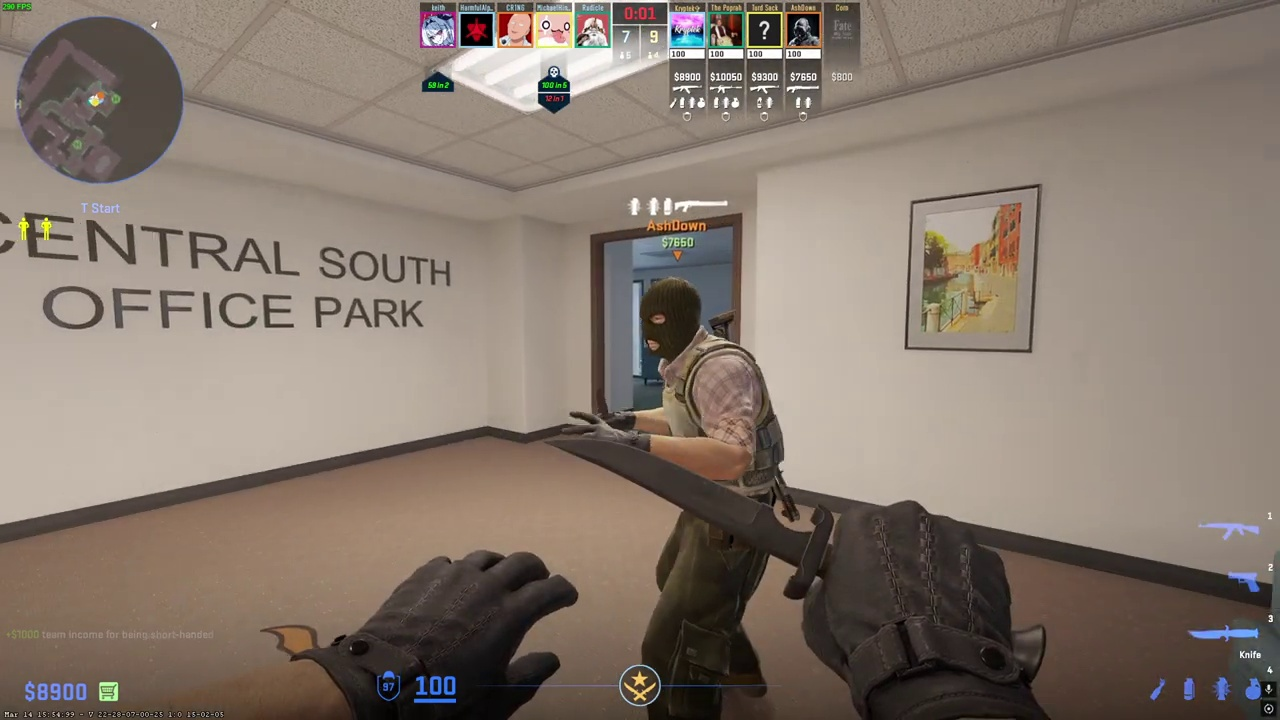Terrorist: (612, 276, 784, 719)
